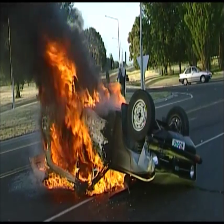fire_h: (46, 37, 110, 185), (86, 169, 126, 195), (44, 172, 74, 191), (112, 80, 126, 108)
fire_l: (39, 157, 49, 172), (102, 84, 109, 99), (44, 138, 49, 151)
